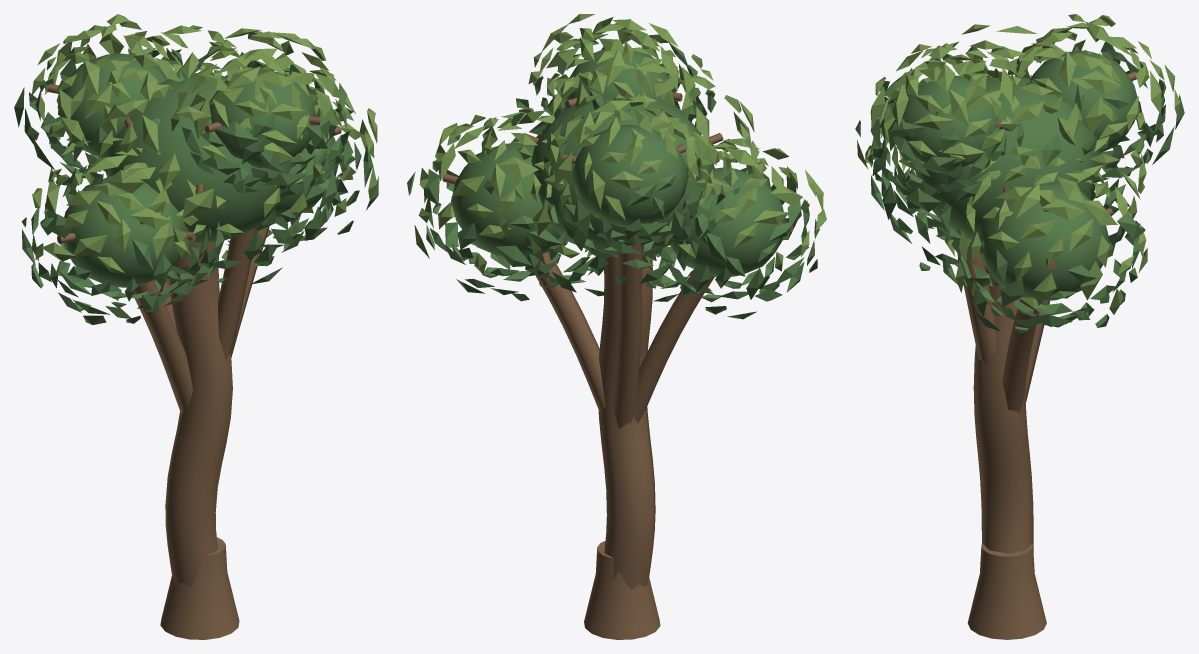
File: tree.round-new.glb
3 renders of one model, left to right at view 1: azimuth 30°, elevation 25°; view 2: azimuth 150°, elevation 25°; view 3: azimuth 270°, elevation 25°, orthographic. The views are drawn at different scales.
Visible parts, largest first — view 1: Root collar; view 2: Root collar; view 3: Root collar.
Boxes of the visible parts, x1,y1,x2,y2 form: Root collar: (14,14,378,639); Root collar: (407,14,826,639); Root collar: (855,14,1184,639).
Size of the model in its own units: 1.39 by 2.13 by 1.08.
